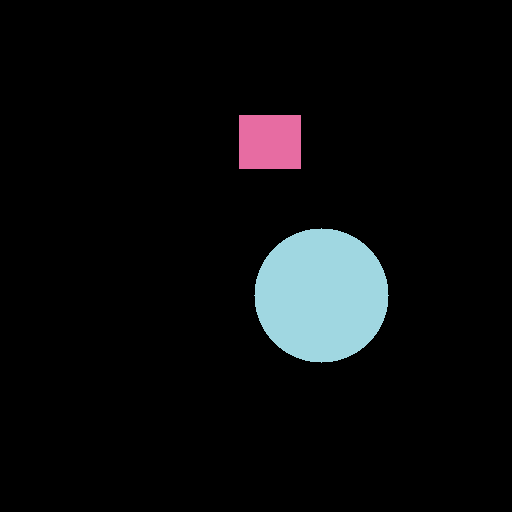circle: (254, 228, 388, 362)
rectangle: (239, 115, 300, 168)
